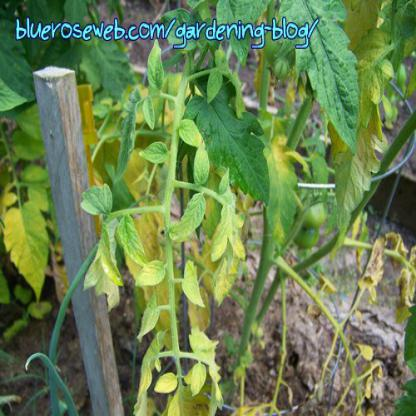tomato leaf yellow virus: (256, 108, 299, 276), (171, 193, 215, 247), (119, 207, 153, 266), (190, 124, 215, 191), (134, 254, 167, 293)
